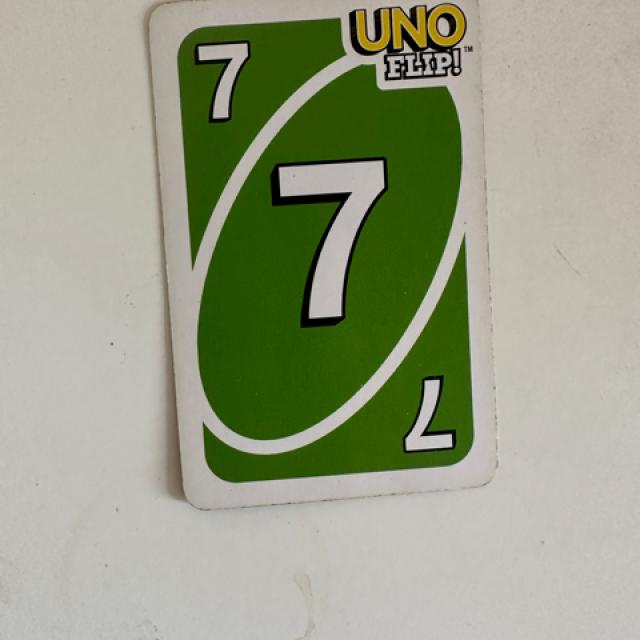lgreen-7: (168, 14, 283, 154)
